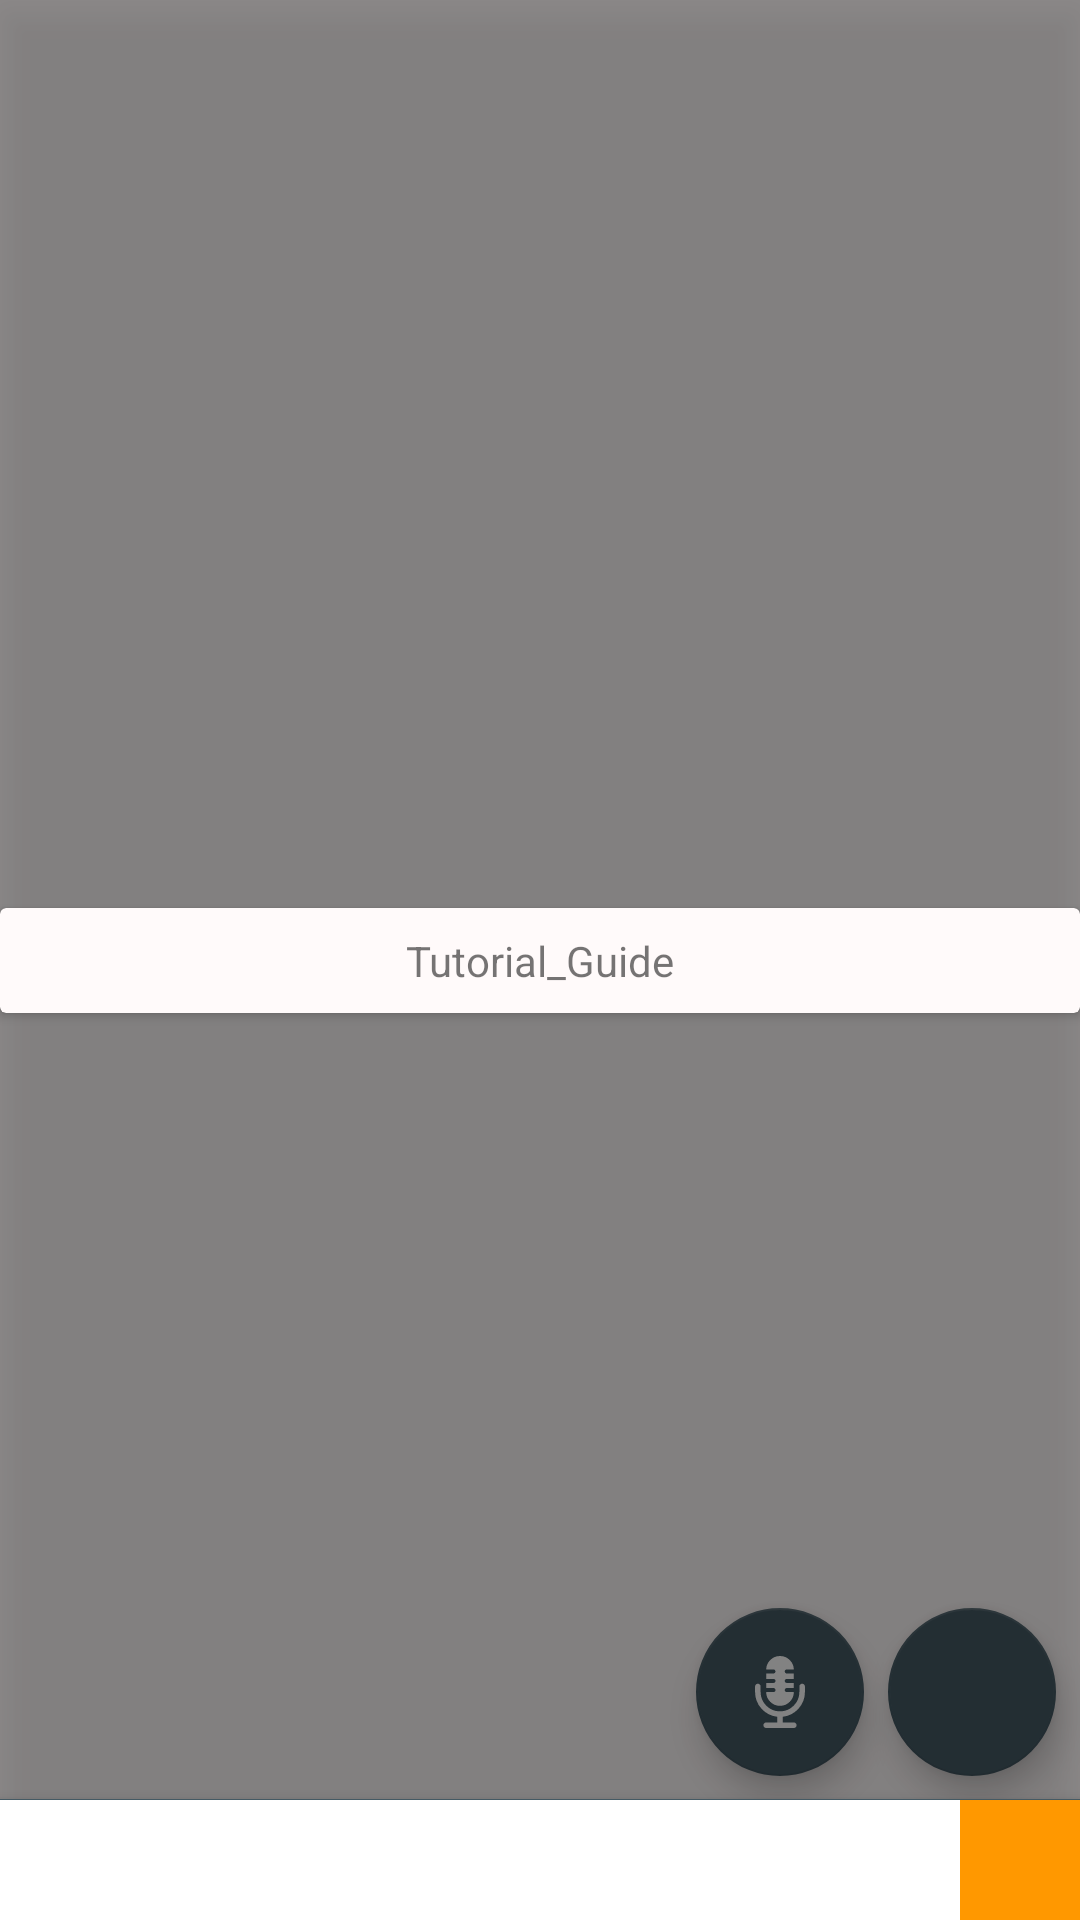

Icons on this 1080w x 1920h Android screen, each with the point to tap as point (x, y):
mic: point (780, 1692)
